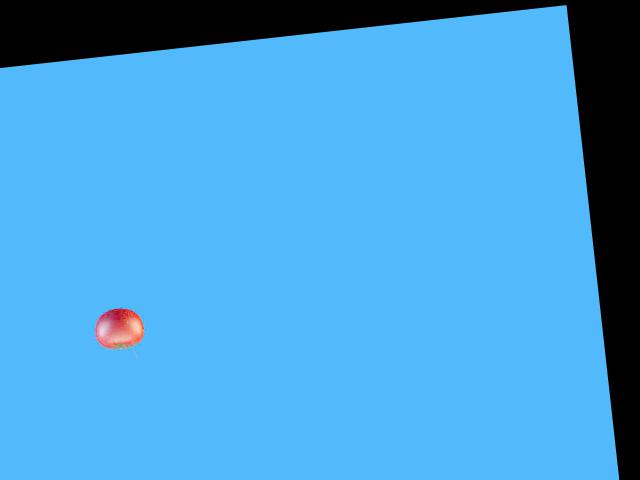tomato: (92, 305, 145, 350)
